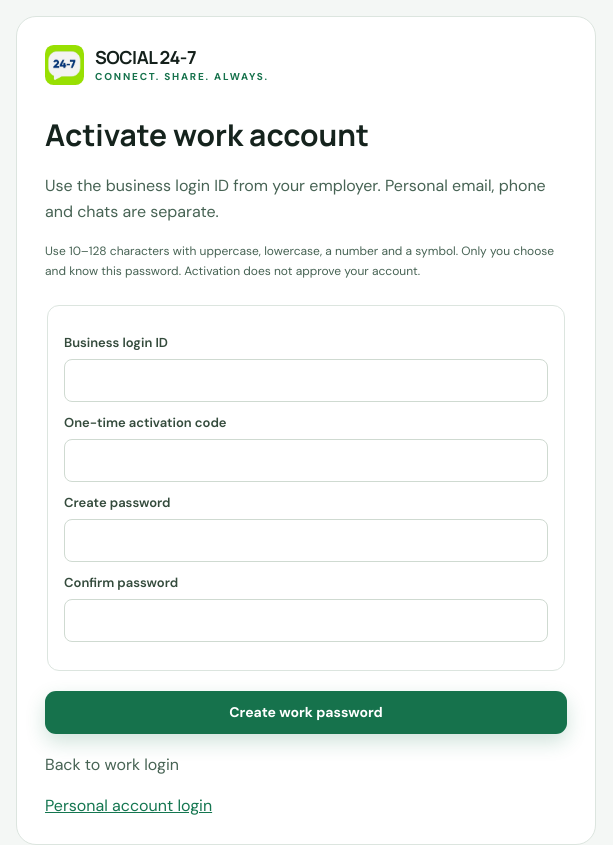
Test: work activation UI › rejects weak passwords without invoking activation
The width and height of the screenshot is (613, 845).
Type "qa.agent" into the field labelled "Business login ID" at (306,380), box [64,359,548,402]
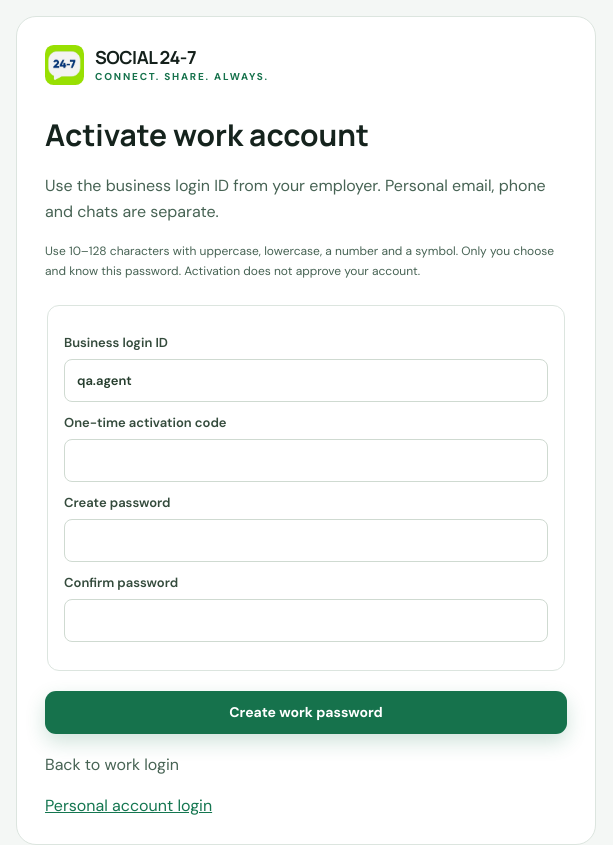
Type "FIXTURE" into the password field labelled "One-time activation code" at (306,460), box [64,439,548,482]
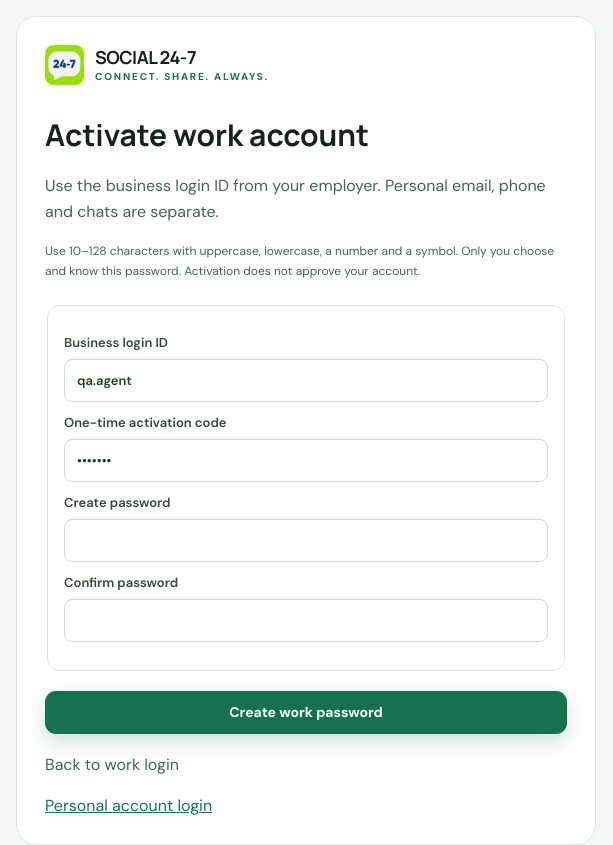
Type "short" into the password field labelled "Create password" at (306,540), box [64,519,548,562]
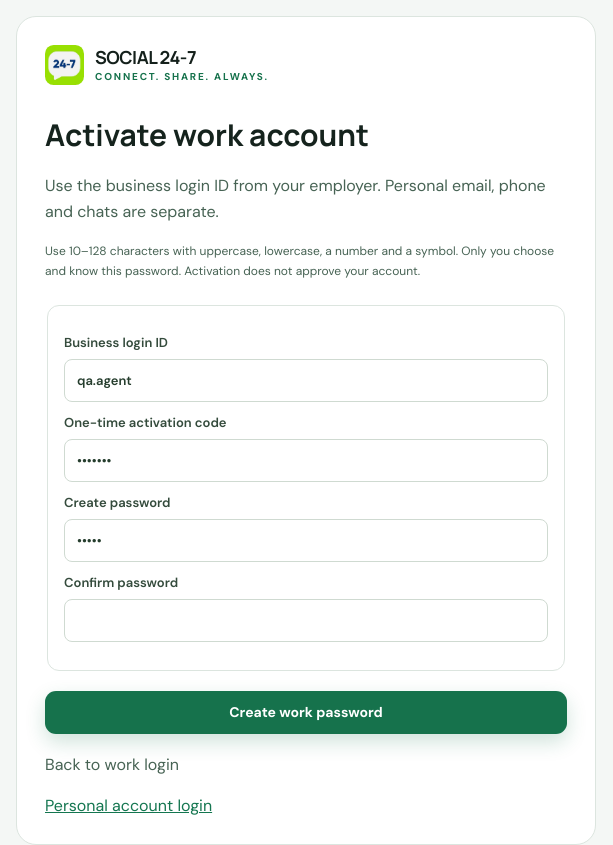
Type "short" into the password field labelled "Confirm password" at (306,620), box [64,599,548,642]
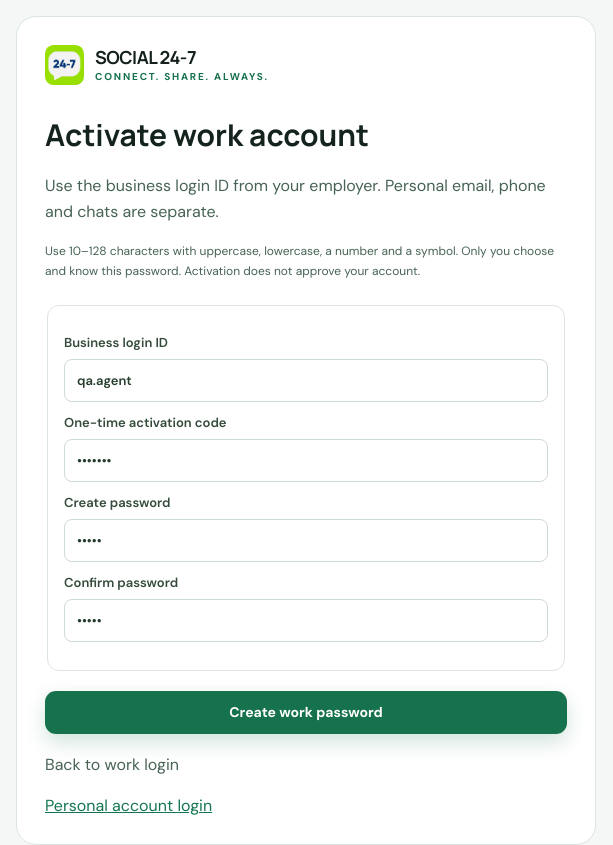
Click the button "Create work password" at (306,712), box [45,691,567,734]
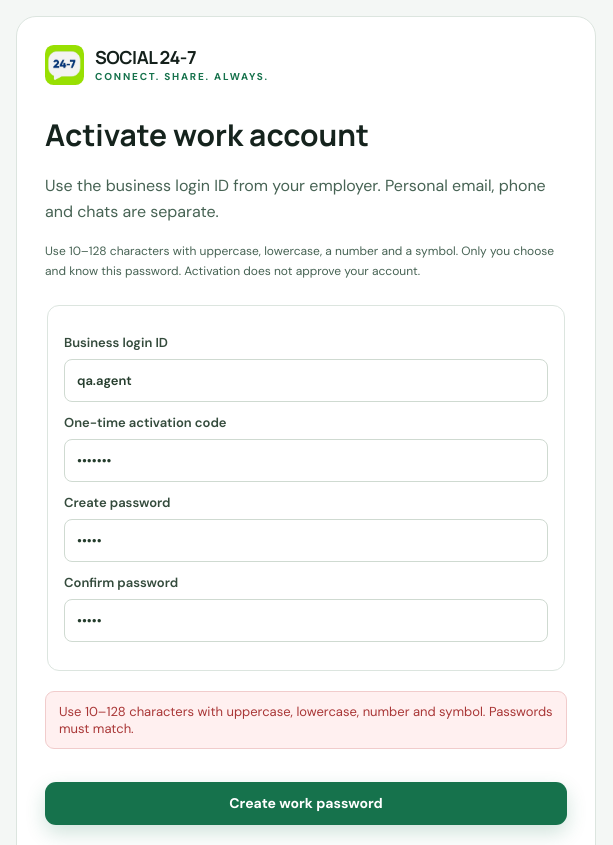
Now the message shows "10–128", box [59,703,553,737]
